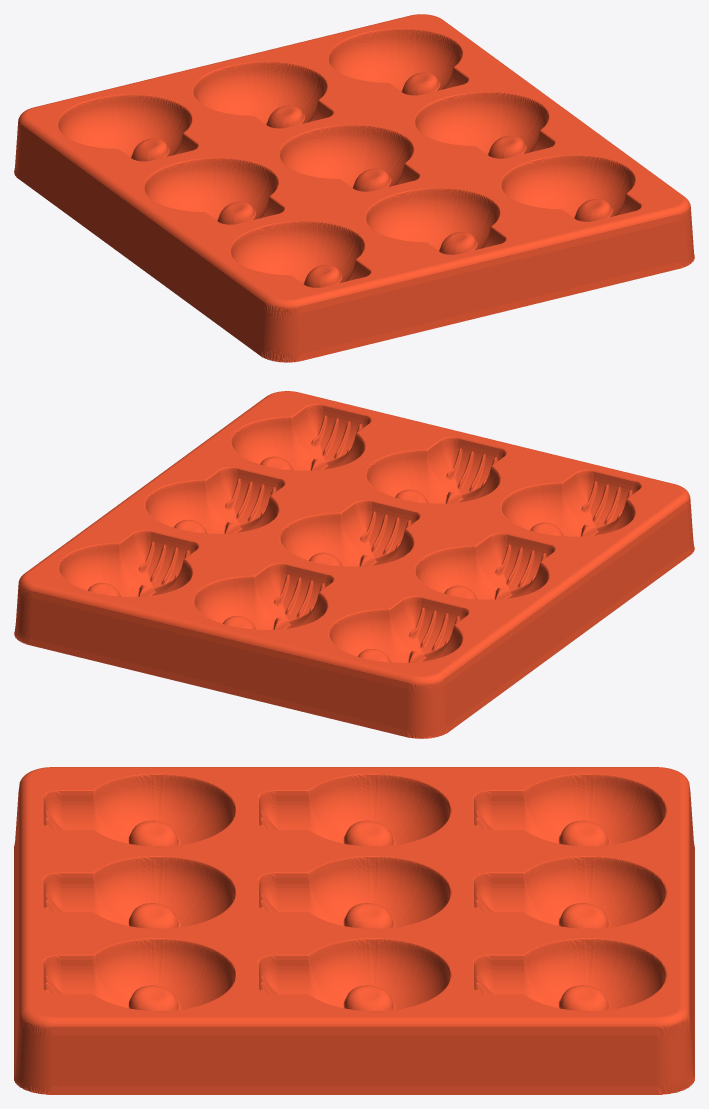
The model's file is mold.glb.
3 renders of one model, top to bottom at view 1: azimuth 30°, elevation 25°; view 2: azimuth 150°, elevation 25°; view 3: azimuth 270°, elevation 25°, orthographic. The views are drawn at different scales.
Visible parts, largest first — view 1: geometry_0; view 2: geometry_0; view 3: geometry_0.
Part boxes in pixels (box(x1,y1,x2,y2)): geometry_0: box(14, 14, 694, 362); geometry_0: box(14, 391, 694, 738); geometry_0: box(14, 767, 694, 1094).
Bounding box in the file's own units: 0.1451 × 0.0185 × 0.1595.
